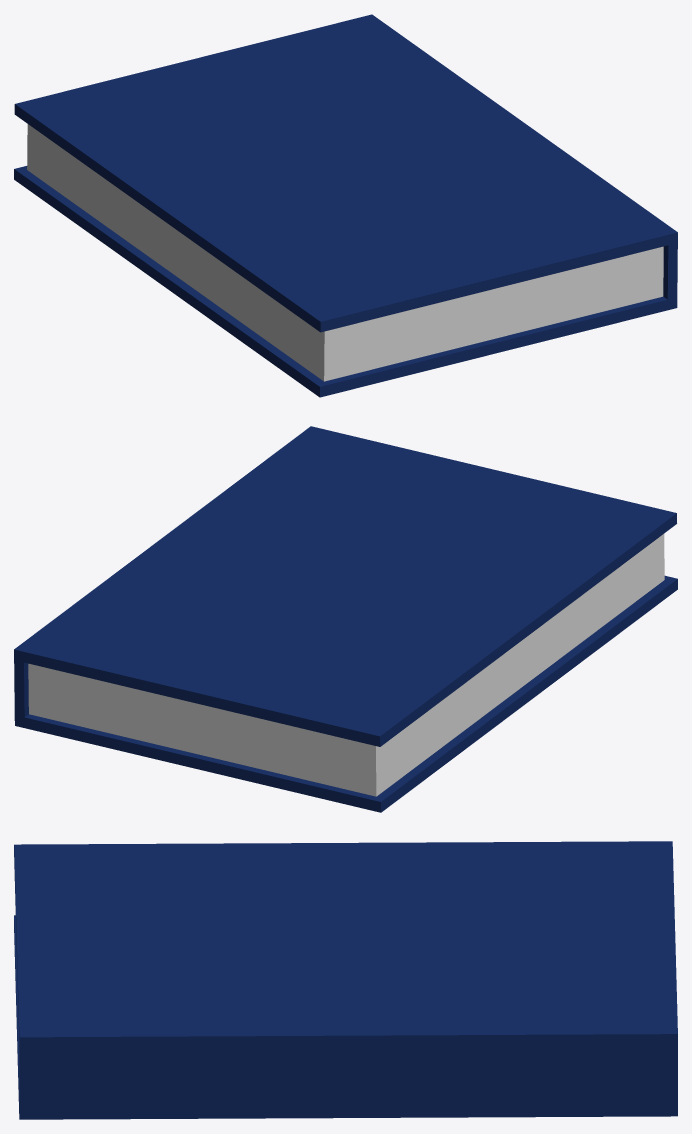
Rendered from Buku 1.fbx.
The picture shows the model from 3 angles, top to bottom: view 1: azimuth 30°, elevation 25°; view 2: azimuth 150°, elevation 25°; view 3: azimuth 270°, elevation 25°; orthographic projection. The views are drawn at different scales.
Visible parts, largest first — view 1: Cube.064; view 2: Cube.064; view 3: Cube.064.
Part boxes in pixels (x1,y1,x2,y2): Cube.064: (14, 14, 677, 397); Cube.064: (14, 426, 677, 812); Cube.064: (14, 841, 677, 1119).
Bounding box in the file's own units: 48.23 × 9.48 × 68.86.
Materials: 1 (1 with a texture image).
